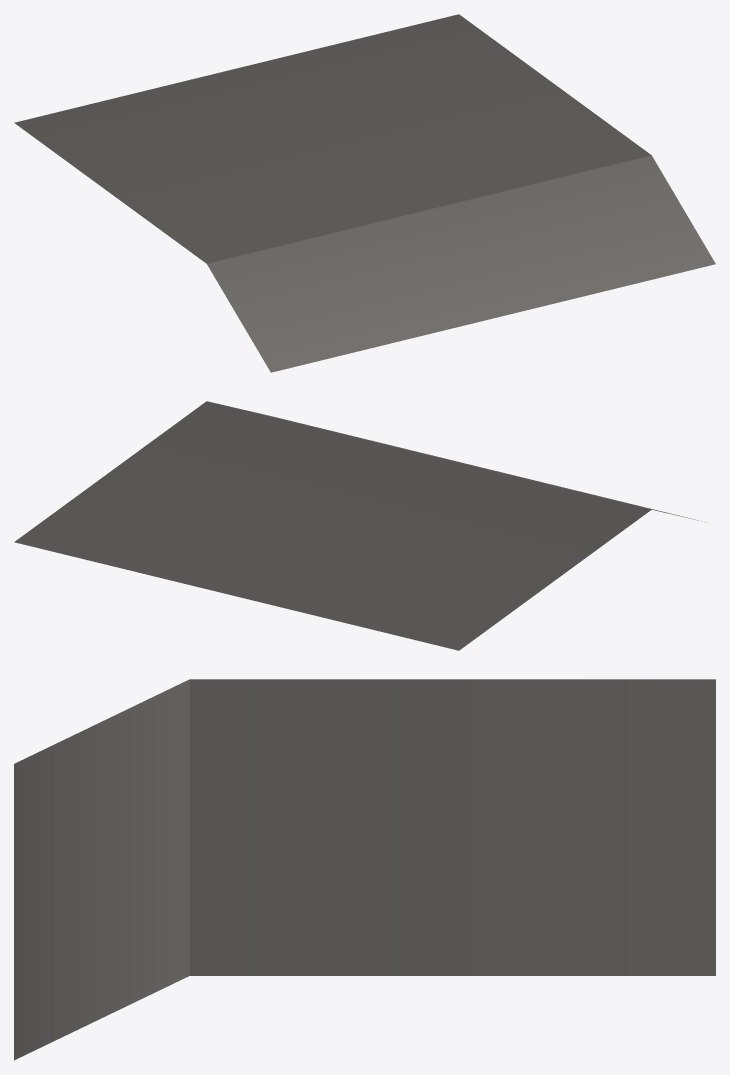
File: AI_Env_Sewer_Roof_Edge.fbx
The picture shows the model from 3 angles, top to bottom: view 1: azimuth 30°, elevation 25°; view 2: azimuth 150°, elevation 25°; view 3: azimuth 270°, elevation 25°; orthographic projection. The views are drawn at different scales.
Parts seen in each view (by area): view 1: AI_Env_Sewer_Roof_Edge; view 2: AI_Env_Sewer_Roof_Edge; view 3: AI_Env_Sewer_Roof_Edge.
Part boxes in pixels (x1,y1,x2,y2): AI_Env_Sewer_Roof_Edge: (14,14,715,372); AI_Env_Sewer_Roof_Edge: (14,401,705,650); AI_Env_Sewer_Roof_Edge: (14,679,715,1060).
Size of the model in its own units: 5 by 0.6645 by 5.
